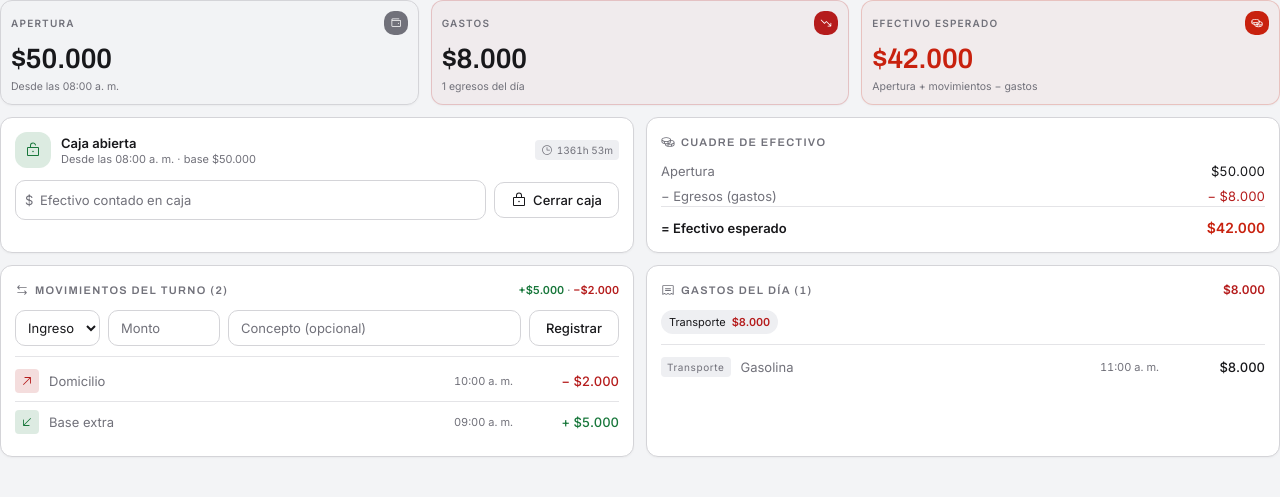
it: TabCaja — construcción (caja menor de obra) › cuadre SIN ventas reales: la fila se omite; y el sobrante-como-venta NO existe en construcción (F2.7)
Check: the text "Caja abierta" is shown, box [61,135,136,151]
Con sobrante en el contado, el botón de "registrar como venta" no se ofrece (ingresos ficticios).
Step 1. Type "50000" into the number field named "Saldo contado" → (251, 200), box [15,180,486,220]
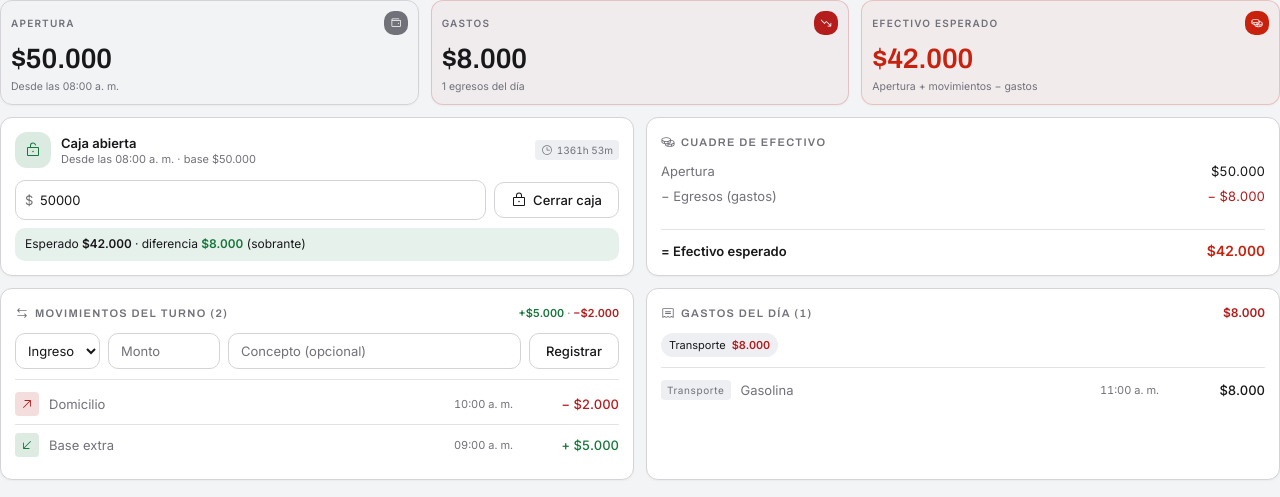
Check: the text "Esperado $42.000 · diferencia $8.000 (sobrante)" is shown, box [15,228,619,261]
